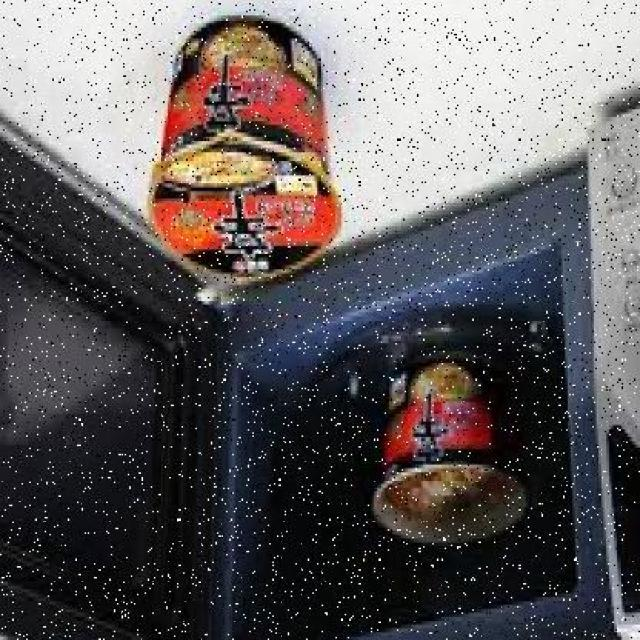Miscellaneous: (137, 6, 356, 280), (366, 322, 563, 546)
